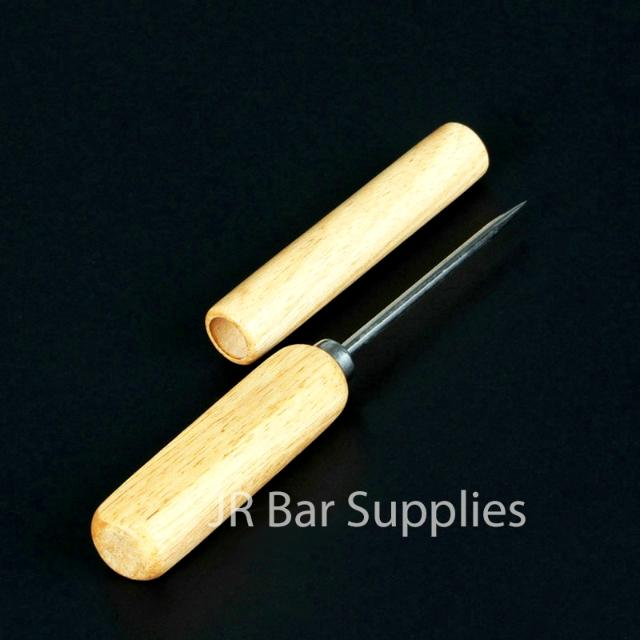ice pick: (90, 197, 528, 581), (207, 121, 491, 365)
